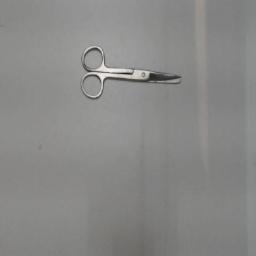Dressing Scissors: (77, 44, 187, 106)
